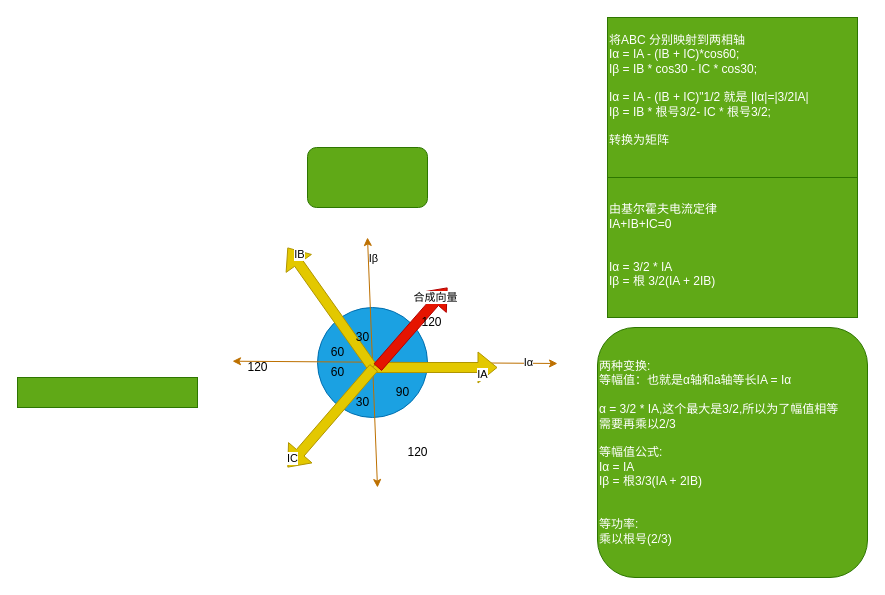
The diagram is 885 pixels wide and 595 high, and some of its shapes have lost their labels. Here are the shapes that lost their labels. From the top down, the box of each, then its label:
(306, 146, 428, 208): 坐标变换
(16, 376, 198, 408): 相位差120
